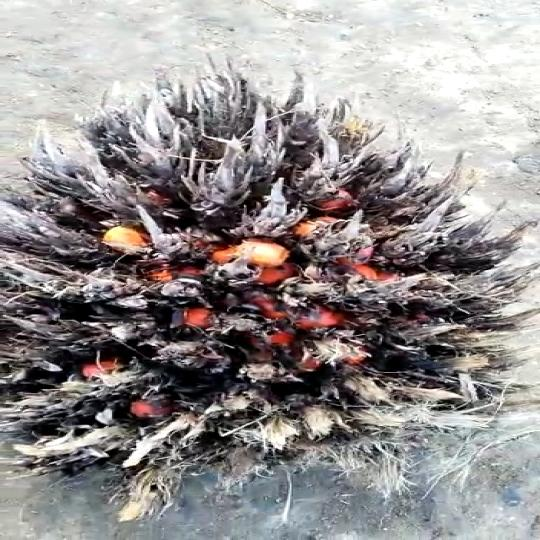terlalu masak: (0, 69, 523, 540)
